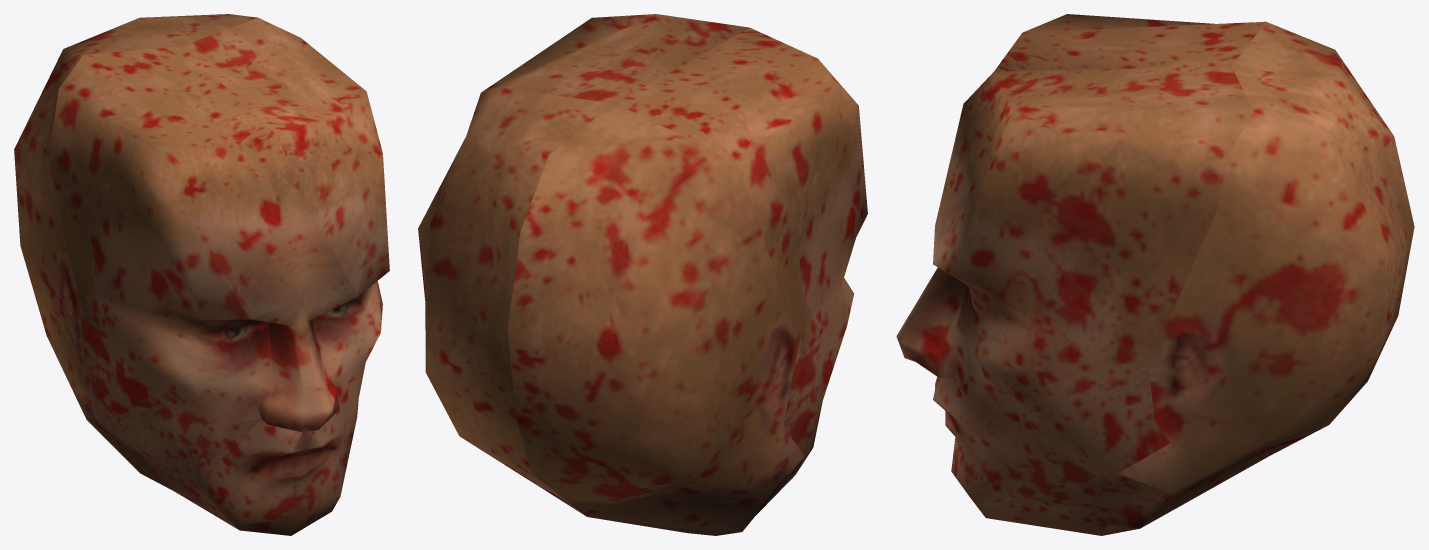
Rendered from spos_head.obj.
3 views of the same model, side by side, from view 1: azimuth 30°, elevation 25°; view 2: azimuth 150°, elevation 25°; view 3: azimuth 270°, elevation 25° (orthographic). The views are drawn at different scales.
Visible parts, largest first — view 1: Group; view 2: Group; view 3: Group.
Part boxes in pixels (x1,y1,x2,y2): Group: (14, 14, 389, 535); Group: (418, 14, 867, 535); Group: (896, 14, 1414, 535).
Size of the model in its own units: 6.27 by 9.42 by 9.53.
1 material, 1 textured.
